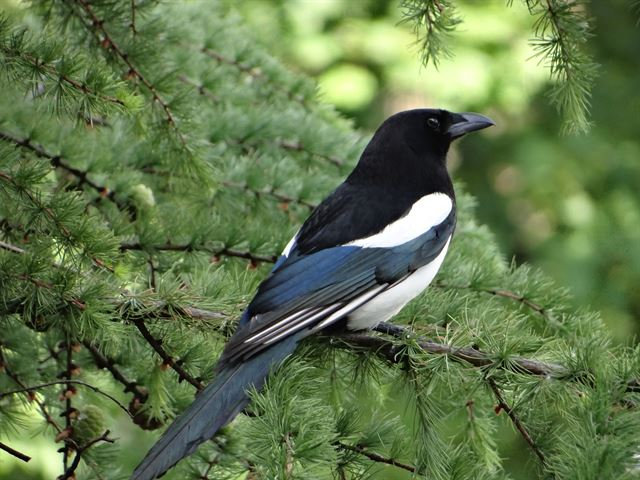magpie: (154, 109, 497, 478)
